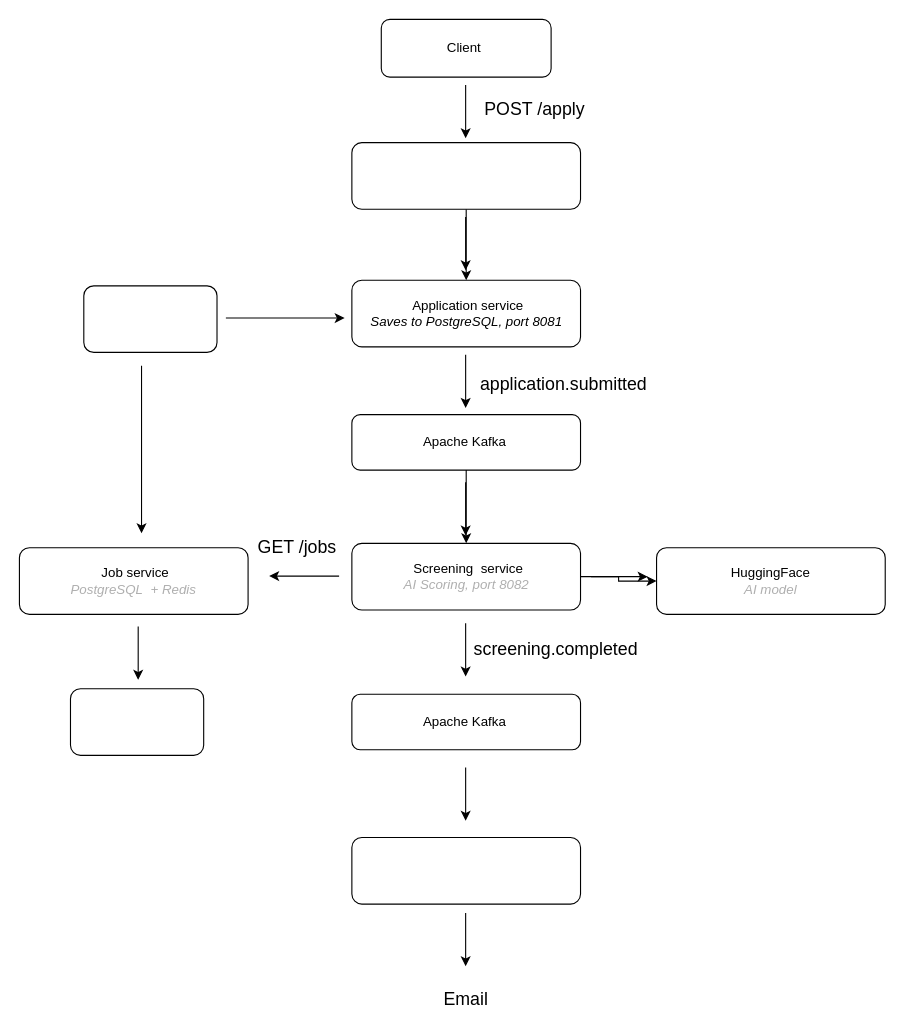
Some shapes in this 905 by 1036 pixel diagram are drawn without their labels. Here are the shapes that lost their labels. From the top down, the box of each, then its label:
(351, 142, 581, 209): API Gateway JWT Auth, routing, port 8080
(83, 285, 217, 352): PostgreSQL
(69, 688, 204, 755): Redis cache
(351, 836, 581, 904): Notification service port 8083
